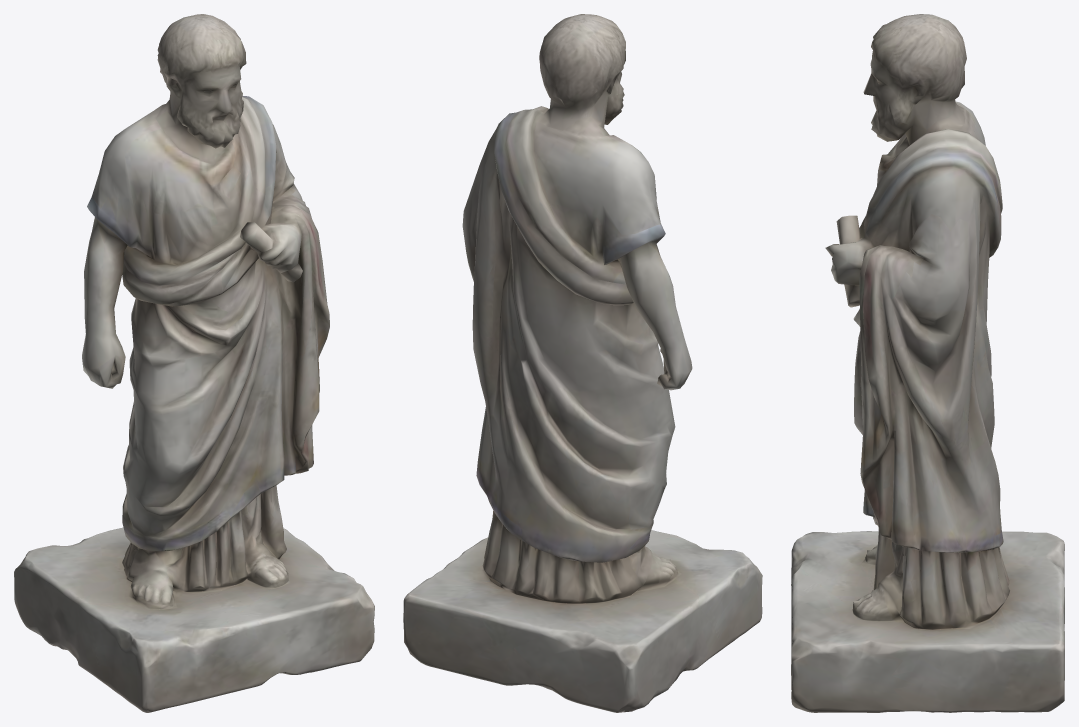
The model's file is greek_statue.glb.
The picture shows the model from 3 angles, left to right: view 1: azimuth 30°, elevation 25°; view 2: azimuth 150°, elevation 25°; view 3: azimuth 270°, elevation 25°; orthographic projection. The views are drawn at different scales.
Visible parts, largest first — view 1: tripo_node_24819ee7-20e3-45d3-99bb-99f6e8e53e5c; view 2: tripo_node_24819ee7-20e3-45d3-99bb-99f6e8e53e5c; view 3: tripo_node_24819ee7-20e3-45d3-99bb-99f6e8e53e5c.
Part boxes in pixels (x1=…): tripo_node_24819ee7-20e3-45d3-99bb-99f6e8e53e5c: x1=14, y1=14, x2=374, y2=712; tripo_node_24819ee7-20e3-45d3-99bb-99f6e8e53e5c: x1=403, y1=14, x2=762, y2=712; tripo_node_24819ee7-20e3-45d3-99bb-99f6e8e53e5c: x1=791, y1=14, x2=1064, y2=712.
Size of the model in its own units: 0.3851 by 0.9791 by 0.3794.
1 material, 1 textured.
